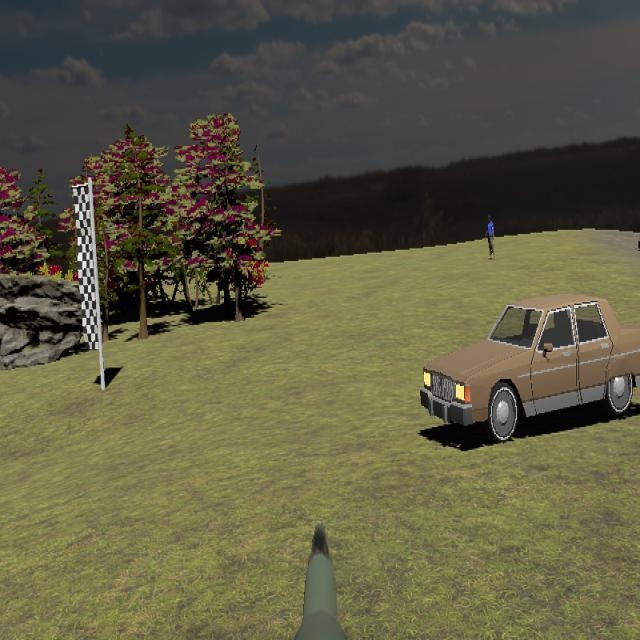car: (419, 294, 640, 443)
